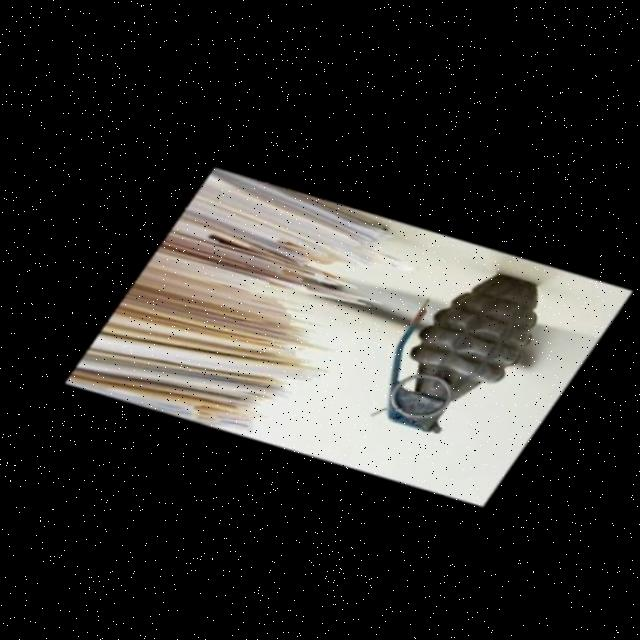grenade: (317, 231, 592, 459)
